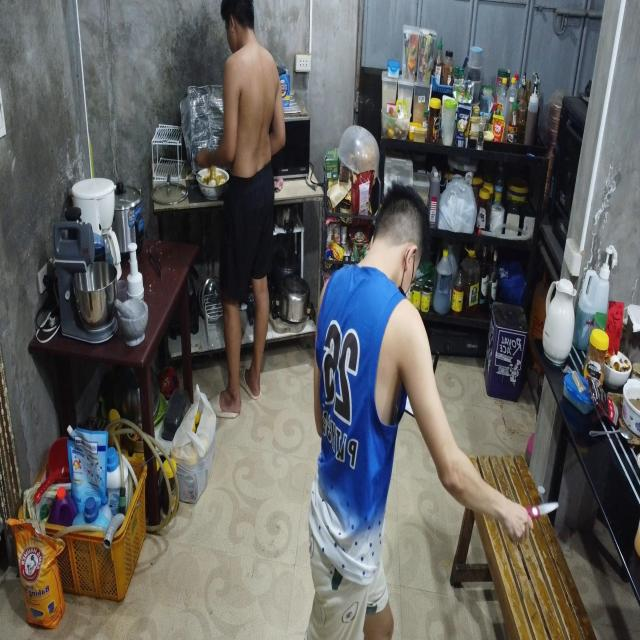scissor: (521, 501, 558, 526)
